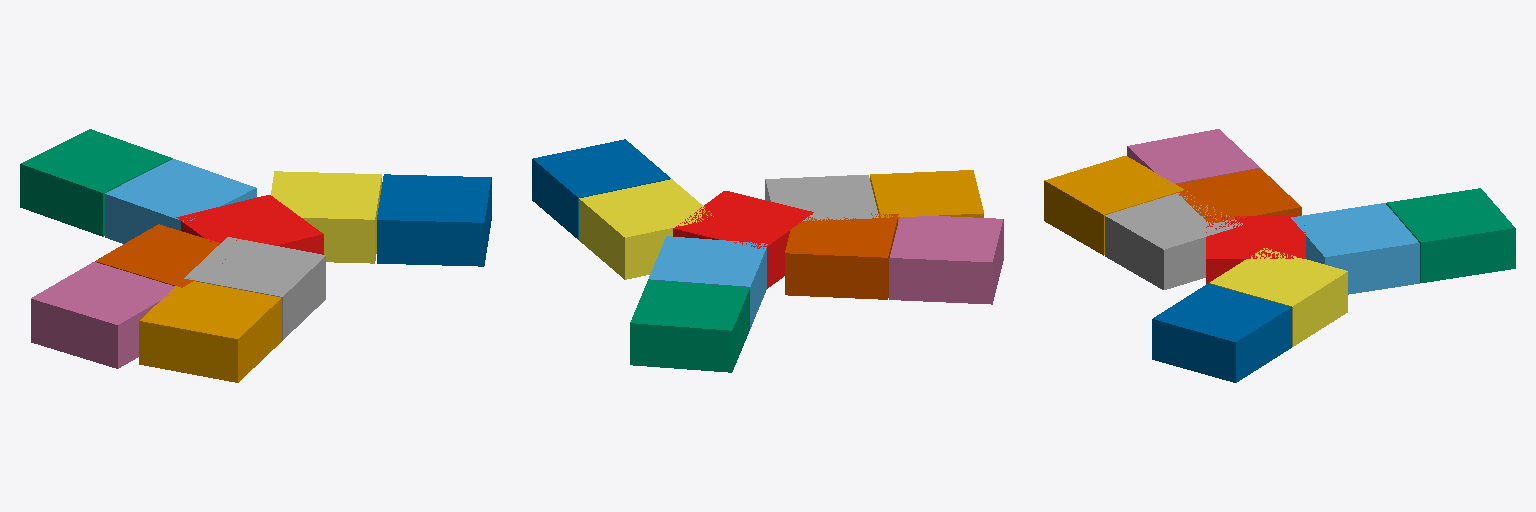
The robot description file, URDF, robot "Model_Models/Model_186.urdf0":
<?xml version='1.0' encoding='UTF-8'?>
<robot name="Model_Models/Model_186.urdf0">
  <link name="base_link">
    <inertial>
      <origin xyz="0.0 0.0 0.0" rpy="0.0 -0.0 0.0"/>
      <mass value="1.0"/>
      <inertia ixx="1.0" ixy="0.0" ixz="0.0" iyy="1.0" iyz="0.0" izz="1.0"/>
    </inertial>
    <visual>
      <geometry>
        <box size="0.67 0.67 0.3 "/>
      </geometry>
      <material name="red"/>
      <origin xyz="0.0 0.0 0.0" rpy="0.0 -0.0 0.0"/>
    </visual>
    <collision>
      <geometry>
        <box size="0.67 0.67 0.3 "/>
      </geometry>
      <origin xyz="0.0 0.0 0.0" rpy="0.0 0.0 0.0"/>
    </collision>
  </link>
  <link name="arm_0_arm1">
    <inertial>
      <origin xyz="0.0 0.34 0.0" rpy="0.0 0.0 0.0"/>
      <mass value="1.0"/>
      <inertia ixx="0.0" ixy="0.0" ixz="0.0" iyy="0.0" iyz="0.0" izz="0.0"/>
    </inertial>
    <visual>
      <geometry>
        <box size="0.67 0.67 0.3 "/>
      </geometry>
      <origin xyz="0.0 0.34 0.0" rpy="0.0 0.0 0.0"/>
    </visual>
    <collision>
      <geometry>
        <box size="0.67 0.67 0.3 "/>
      </geometry>
      <origin xyz="0.0 0.34 0.0" rpy="0.0 0.0 0.0"/>
    </collision>
  </link>
  <link name="arm_0_arm2">
    <inertial>
      <origin xyz="0.0 0.34 0.0" rpy="0.0 0.0 0.0"/>
      <mass value="1.0"/>
      <inertia ixx="0.0" ixy="0.0" ixz="0.0" iyy="0.0" iyz="0.0" izz="0.0"/>
    </inertial>
    <visual>
      <geometry>
        <box size="0.67 0.67 0.3 "/>
      </geometry>
      <origin xyz="0.0 0.34 0.0" rpy="0.0 0.0 0.0"/>
    </visual>
    <collision>
      <geometry>
        <box size="0.67 0.67 0.3 "/>
      </geometry>
      <origin xyz="0.0 0.34 0.0" rpy="0.0 0.0 0.0"/>
    </collision>
  </link>
  <link name="arm_2_arm1">
    <inertial>
      <origin xyz="0.0 0.34 0.0" rpy="0.0 0.0 0.0"/>
      <mass value="1.0"/>
      <inertia ixx="0.0" ixy="0.0" ixz="0.0" iyy="0.0" iyz="0.0" izz="0.0"/>
    </inertial>
    <visual>
      <geometry>
        <box size="0.67 0.67 0.3 "/>
      </geometry>
      <origin xyz="0.0 0.34 0.0" rpy="0.0 0.0 0.0"/>
    </visual>
    <collision>
      <geometry>
        <box size="0.67 0.67 0.3 "/>
      </geometry>
      <origin xyz="0.0 0.34 0.0" rpy="0.0 0.0 0.0"/>
    </collision>
  </link>
  <link name="arm_2_arm2">
    <inertial>
      <origin xyz="0.0 0.34 0.0" rpy="0.0 0.0 0.0"/>
      <mass value="1.0"/>
      <inertia ixx="0.0" ixy="0.0" ixz="0.0" iyy="0.0" iyz="0.0" izz="0.0"/>
    </inertial>
    <visual>
      <geometry>
        <box size="0.67 0.67 0.3 "/>
      </geometry>
      <origin xyz="0.0 0.34 0.0" rpy="0.0 0.0 0.0"/>
    </visual>
    <collision>
      <geometry>
        <box size="0.67 0.67 0.3 "/>
      </geometry>
      <origin xyz="0.0 0.34 0.0" rpy="0.0 0.0 0.0"/>
    </collision>
  </link>
  <link name="arm_3_arm1">
    <inertial>
      <origin xyz="0.0 0.34 0.0" rpy="0.0 0.0 0.0"/>
      <mass value="1.0"/>
      <inertia ixx="0.0" ixy="0.0" ixz="0.0" iyy="0.0" iyz="0.0" izz="0.0"/>
    </inertial>
    <visual>
      <geometry>
        <box size="0.67 0.67 0.3 "/>
      </geometry>
      <origin xyz="0.0 0.34 0.0" rpy="0.0 0.0 0.0"/>
    </visual>
    <collision>
      <geometry>
        <box size="0.67 0.67 0.3 "/>
      </geometry>
      <origin xyz="0.0 0.34 0.0" rpy="0.0 0.0 0.0"/>
    </collision>
  </link>
  <link name="arm_3_arm2">
    <inertial>
      <origin xyz="0.0 0.34 0.0" rpy="0.0 0.0 0.0"/>
      <mass value="1.0"/>
      <inertia ixx="0.0" ixy="0.0" ixz="0.0" iyy="0.0" iyz="0.0" izz="0.0"/>
    </inertial>
    <visual>
      <geometry>
        <box size="0.67 0.67 0.3 "/>
      </geometry>
      <origin xyz="0.0 0.34 0.0" rpy="0.0 0.0 0.0"/>
    </visual>
    <collision>
      <geometry>
        <box size="0.67 0.67 0.3 "/>
      </geometry>
      <origin xyz="0.0 0.34 0.0" rpy="0.0 0.0 0.0"/>
    </collision>
  </link>
  <link name="arm_Permutation_0_arm1">
    <inertial>
      <origin xyz="0.0 0.34 0.0" rpy="0.0 0.0 0.0"/>
      <mass value="1.0"/>
      <inertia ixx="0.0" ixy="0.0" ixz="0.0" iyy="0.0" iyz="0.0" izz="0.0"/>
    </inertial>
    <visual>
      <geometry>
        <box size="0.67 0.67 0.3 "/>
      </geometry>
      <origin xyz="0.0 0.34 0.0" rpy="0.0 0.0 0.0"/>
    </visual>
    <collision>
      <geometry>
        <box size="0.67 0.67 0.3 "/>
      </geometry>
      <origin xyz="0.0 0.34 0.0" rpy="0.0 0.0 0.0"/>
    </collision>
  </link>
  <link name="arm_Permutation_0_arm2">
    <inertial>
      <origin xyz="0.0 0.34 0.0" rpy="0.0 0.0 0.0"/>
      <mass value="1.0"/>
      <inertia ixx="0.0" ixy="0.0" ixz="0.0" iyy="0.0" iyz="0.0" izz="0.0"/>
    </inertial>
    <visual>
      <geometry>
        <box size="0.67 0.67 0.3 "/>
      </geometry>
      <origin xyz="0.0 0.34 0.0" rpy="0.0 0.0 0.0"/>
    </visual>
    <collision>
      <geometry>
        <box size="0.67 0.67 0.3 "/>
      </geometry>
      <origin xyz="0.0 0.34 0.0" rpy="0.0 0.0 0.0"/>
    </collision>
  </link>
  <joint name="arm_0_jointBase" type="fixed">
    <limit effort="1.57" velocity="1.57" lower="-1.57" upper="1.57"/>
    <parent link="base_link"/>
    <child link="arm_0_arm1"/>
    <axis xyz="1. 0. 0."/>
    <origin xyz="0.0 0.34 0.0" rpy="0.0 0.0 0.35"/>
  </joint>
  <joint name="arm_0_joint1" type="revolute">
    <limit effort="1.57" velocity="1.57" lower="-1.57" upper="1.57"/>
    <parent link="arm_0_arm1"/>
    <child link="arm_0_arm2"/>
    <axis xyz="1. 0. 0."/>
    <origin xyz="0.0 0.68 0.0" rpy="0.0 0.0 0.0"/>
  </joint>
  <joint name="arm_2_jointBase" type="fixed">
    <limit effort="1.57" velocity="1.57" lower="-1.57" upper="1.57"/>
    <parent link="base_link"/>
    <child link="arm_2_arm1"/>
    <axis xyz="1. 0. 0."/>
    <origin xyz="0.34 0.34 0.0" rpy="0.0 0.0 -2.16"/>
  </joint>
  <joint name="arm_2_joint1" type="revolute">
    <limit effort="1.57" velocity="1.57" lower="-1.57" upper="1.57"/>
    <parent link="arm_2_arm1"/>
    <child link="arm_2_arm2"/>
    <axis xyz="1. 0. 0."/>
    <origin xyz="0.0 0.68 0.0" rpy="0.0 0.0 0.0"/>
  </joint>
  <joint name="arm_3_jointBase" type="fixed">
    <limit effort="1.57" velocity="1.57" lower="-1.57" upper="1.57"/>
    <parent link="base_link"/>
    <child link="arm_3_arm1"/>
    <axis xyz="1. 0. 0."/>
    <origin xyz="-0.34 0.0 0.0" rpy="0.0 0.0 1.99"/>
  </joint>
  <joint name="arm_3_joint1" type="revolute">
    <limit effort="1.57" velocity="1.57" lower="-1.57" upper="1.57"/>
    <parent link="arm_3_arm1"/>
    <child link="arm_3_arm2"/>
    <axis xyz="1. 0. 0."/>
    <origin xyz="0.0 0.68 0.0" rpy="0.0 0.0 0.0"/>
  </joint>
  <joint name="arm_Permutation_0_jointBase" type="fixed">
    <limit effort="1.57" velocity="1.57" lower="-1.57" upper="1.57"/>
    <parent link="base_link"/>
    <child link="arm_Permutation_0_arm1"/>
    <axis xyz="1. 0. 0."/>
    <origin xyz="0.0 -0.34 0.0" rpy="0.0 0.0 2.2"/>
  </joint>
  <joint name="arm_Permutation_0_joint1" type="revolute">
    <limit effort="1.57" velocity="1.57" lower="-1.57" upper="1.57"/>
    <parent link="arm_Permutation_0_arm1"/>
    <child link="arm_Permutation_0_arm2"/>
    <axis xyz="1. 0. 0."/>
    <origin xyz="0.0 0.68 0.0" rpy="0.0 0.0 0.0"/>
  </joint>
  <material name="red">
    <color rgba="0.969 0.129 0.122 1.   "/>
  </material>
</robot>

--- Facts derived from the render (not from the file) ---
Views: 3 orthographic renders of the robot side by side, from view 1: azimuth 30°, elevation 25°; view 2: azimuth 150°, elevation 25°; view 3: azimuth 270°, elevation 25°.
Model Model_Models/Model_186.urdf0 with 9 links and 8 joints (4 revolute, 4 fixed), rooted at base_link, posed all joints at 0.
Visible links, largest first — view 1: arm_Permutation_0_arm2, arm_2_arm2, arm_3_arm2, arm_0_arm2, arm_2_arm1, arm_0_arm1, arm_Permutation_0_arm1, base_link, arm_3_arm1; view 2: arm_0_arm2, arm_3_arm2, arm_3_arm1, arm_2_arm1, arm_2_arm2, base_link, arm_0_arm1, arm_Permutation_0_arm2, arm_Permutation_0_arm1; view 3: arm_2_arm2, arm_0_arm2, arm_0_arm1, arm_Permutation_0_arm1, arm_Permutation_0_arm2, arm_2_arm1, arm_3_arm2, arm_3_arm1, base_link.
Link boxes in pixels (x1,y1,x2,y2): arm_Permutation_0_arm2: [139, 281, 281, 382]; arm_2_arm2: [377, 174, 491, 266]; arm_3_arm2: [31, 262, 174, 368]; arm_0_arm2: [20, 129, 172, 236]; arm_2_arm1: [271, 171, 381, 263]; arm_0_arm1: [105, 159, 256, 243]; arm_Permutation_0_arm1: [184, 237, 325, 340]; base_link: [176, 195, 323, 254]; arm_3_arm1: [95, 224, 225, 287]; arm_0_arm2: [630, 280, 749, 372]; arm_3_arm2: [889, 216, 1003, 304]; arm_3_arm1: [785, 213, 898, 299]; arm_2_arm1: [579, 179, 713, 279]; arm_2_arm2: [532, 139, 670, 239]; base_link: [673, 191, 813, 288]; arm_0_arm1: [648, 236, 767, 328]; arm_Permutation_0_arm2: [870, 170, 983, 221]; arm_Permutation_0_arm1: [765, 175, 878, 221]; arm_2_arm2: [1152, 284, 1291, 382]; arm_0_arm2: [1386, 188, 1515, 282]; arm_0_arm1: [1291, 203, 1419, 294]; arm_Permutation_0_arm1: [1105, 191, 1242, 289]; arm_Permutation_0_arm2: [1044, 156, 1183, 255]; arm_2_arm1: [1209, 248, 1347, 346]; arm_3_arm2: [1127, 129, 1259, 183]; arm_3_arm1: [1176, 168, 1301, 223]; base_link: [1206, 216, 1305, 283].
Bounding box of the posed robot: 3.37 × 3.14 × 0.3 m (x, y, z).
Geometry: primitives only (box / cylinder / sphere), no mesh files.